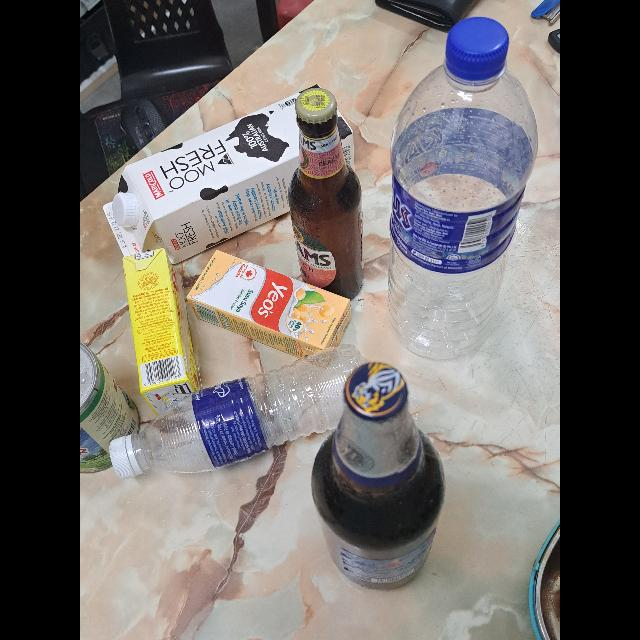caixinha: (102, 84, 354, 264), (185, 249, 352, 367), (122, 248, 200, 414)
garrafa de vidro: (312, 361, 444, 589), (290, 88, 364, 298)
garrafa plástica: (392, 60, 536, 358), (137, 344, 363, 472)
lata: (80, 343, 140, 472)
tampa plástica: (445, 16, 509, 80), (108, 437, 138, 481), (112, 193, 136, 227)
